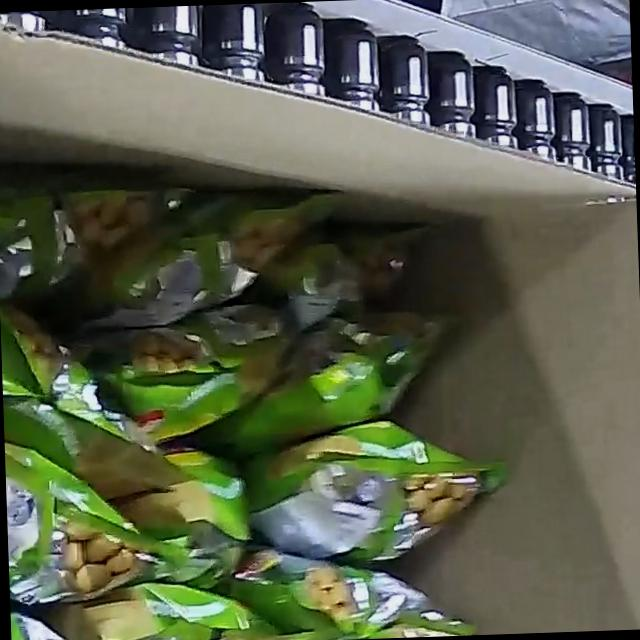yogurt: (0, 165, 518, 640)
